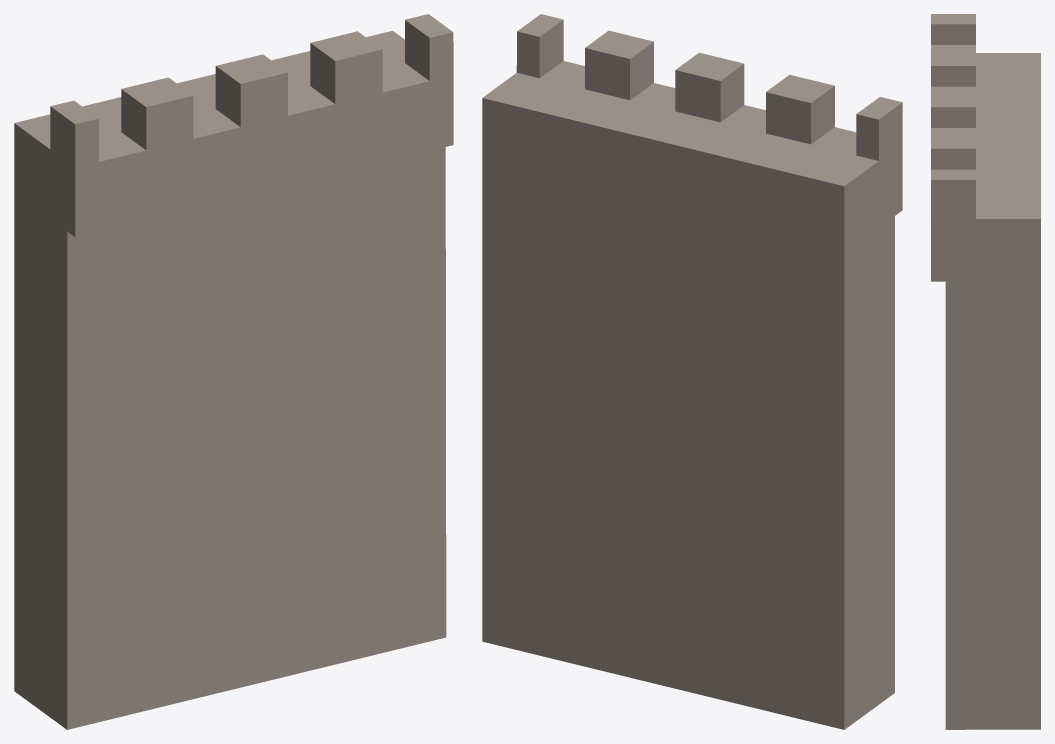
The model's file is wall.glb.
3 views of the same model, side by side, from view 1: azimuth 30°, elevation 25°; view 2: azimuth 150°, elevation 25°; view 3: azimuth 270°, elevation 25° (orthographic). The views are drawn at different scales.
Parts seen in each view (by area): view 1: TallWall; view 2: TallWall; view 3: TallWall.
Boxes of the visible parts, x1,y1,x2,y2 form: TallWall: (14,14,453,729); TallWall: (482,14,902,729); TallWall: (931,14,1040,729).
Bounding box in the file's own units: 0.6489 × 1 × 0.1808.
